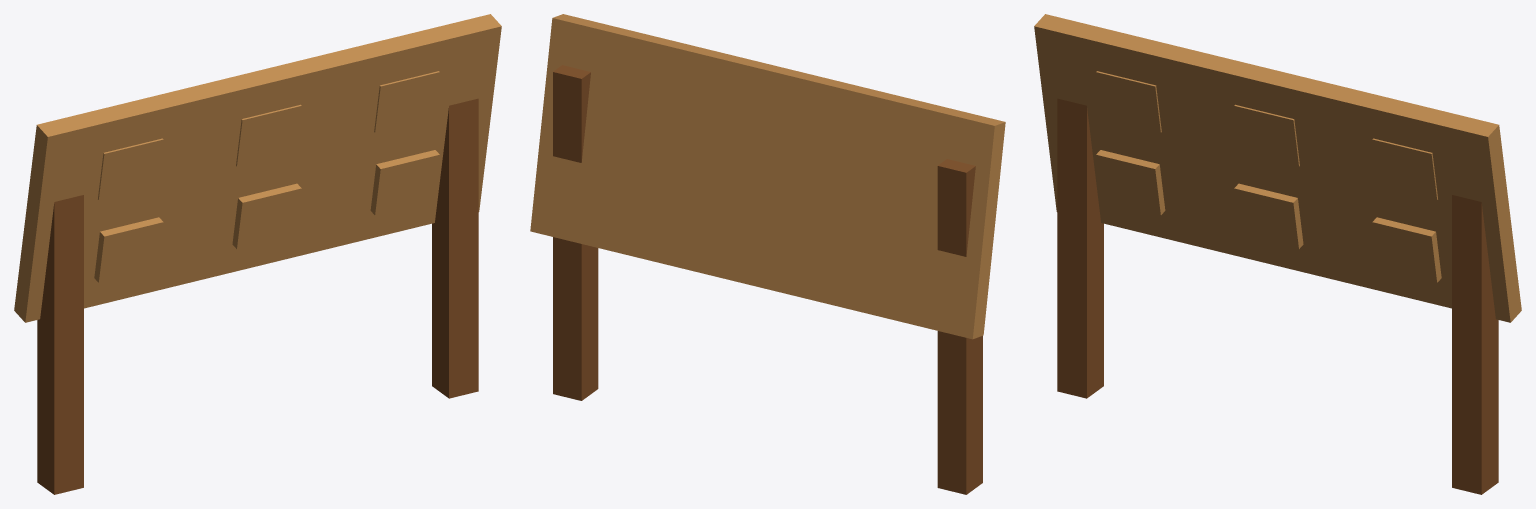
Rendered from ema_rack.glb.
The picture shows the model from 3 angles, left to right: view 1: azimuth 30°, elevation 25°; view 2: azimuth 150°, elevation 25°; view 3: azimuth 330°, elevation 25°; orthographic projection. The views are drawn at different scales.
Parts seen in each view (by area): view 1: ema_rack; view 2: ema_rack; view 3: ema_rack.
Part boxes in pixels (x1,y1,x2,y2): ema_rack: [14, 14, 501, 494]; ema_rack: [530, 14, 1005, 494]; ema_rack: [1034, 14, 1521, 494].
Size of the model in its own units: 2.3 by 1.8 by 0.2967.
